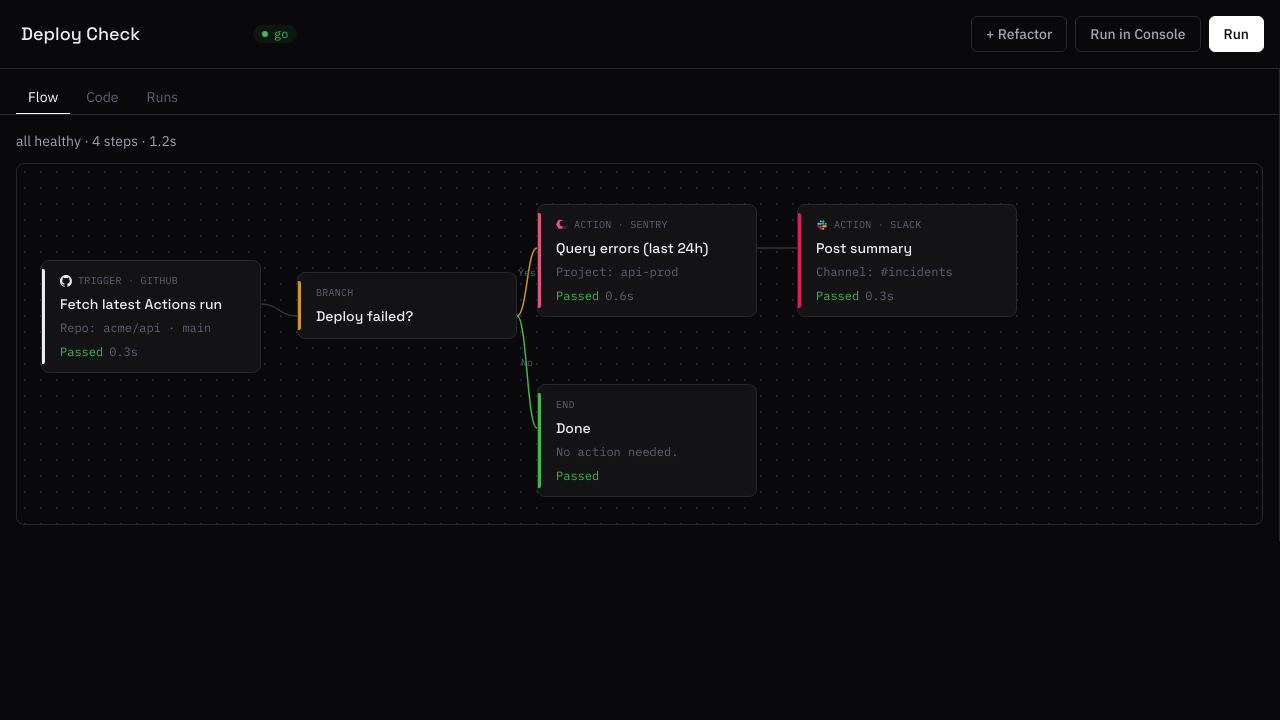
Test: selecting a flow node opens refactor with step chip
This screenshot has width=1280, height=720.
Click the button "Query errors (last 24h)" at (647,260), box [537, 204, 757, 317]
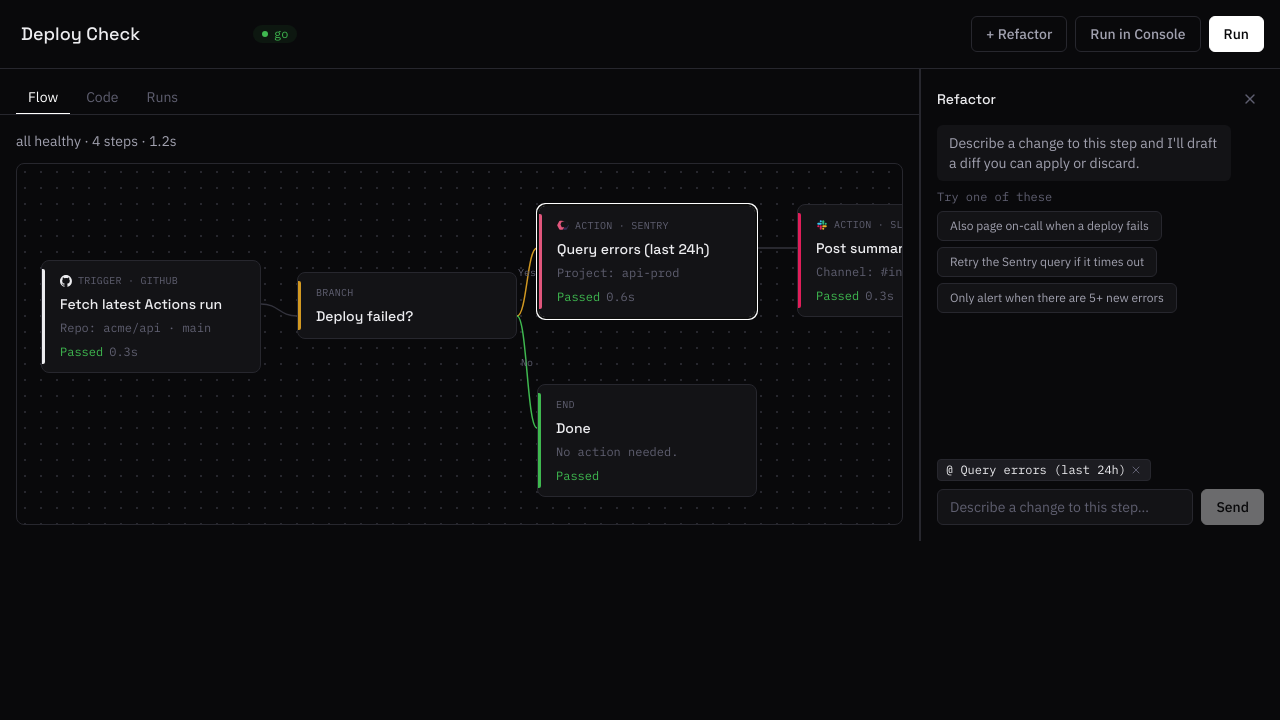
Now the field with placeholder "Describe a change to this step…" is shown, box [937, 489, 1193, 525]
Now the text "@ Query errors (last 24h)" is shown, box [937, 459, 1151, 481]
